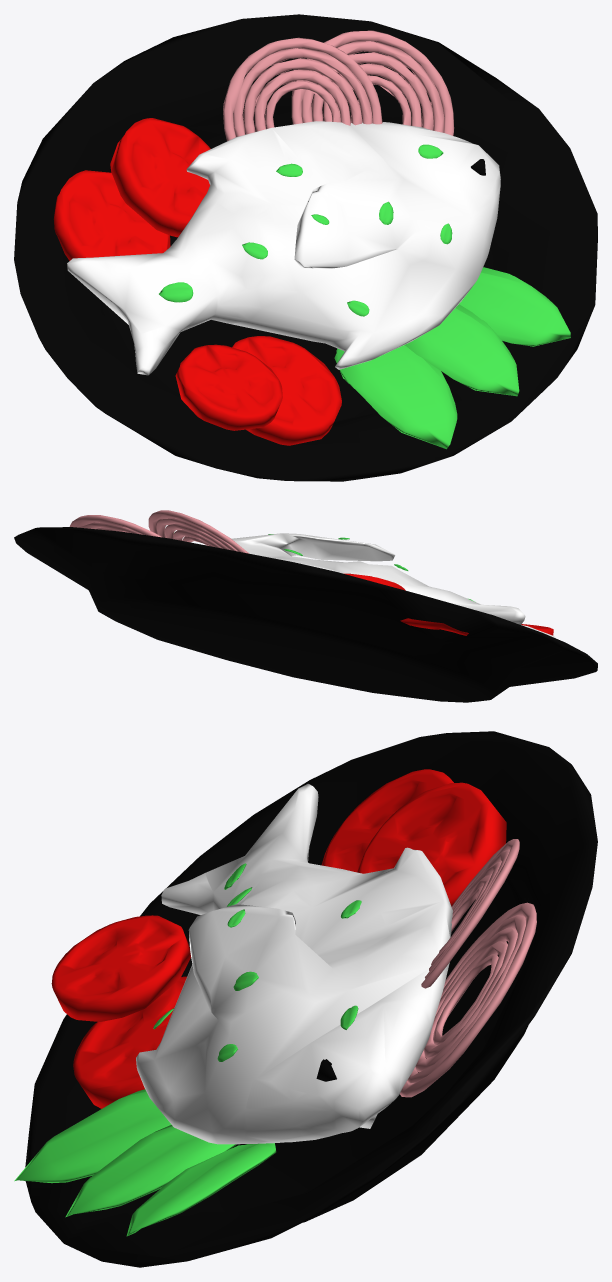
The model's file is fish.glb.
The picture shows the model from 3 angles, top to bottom: view 1: azimuth 30°, elevation 25°; view 2: azimuth 150°, elevation 25°; view 3: azimuth 270°, elevation 25°; orthographic projection. The views are drawn at different scales.
Visible parts, largest first — view 1: Circle, Cube.071, Torus.004, Cylinder.015, Torus.003, Cube.074, Cylinder.017, Cylinder.014, Cylinder.016, Cube.073, Cube.072; view 2: Circle, Cube.071, Torus.004, Torus.003, Cylinder.014, Cylinder.015; view 3: Cube.071, Circle, Cylinder.017, Cylinder.015, Torus.003, Cube.074, Cylinder.016, Cube.073, Cube.072, Cylinder.014, Torus.004.
Boxes of the visible parts, box(x1,y1,x2,y2) form: Circle: box(14, 14, 597, 481); Cube.071: box(67, 121, 500, 375); Torus.004: box(223, 37, 382, 140); Cylinder.015: box(110, 118, 210, 237); Torus.003: box(291, 30, 454, 135); Cube.074: box(334, 345, 457, 449); Cylinder.017: box(175, 344, 282, 430); Cylinder.014: box(53, 170, 170, 260); Cylinder.016: box(232, 336, 341, 445); Cube.073: box(405, 304, 519, 396); Cube.072: box(459, 267, 570, 346); Circle: box(14, 527, 597, 702); Cube.071: box(205, 533, 555, 637); Torus.004: box(148, 510, 248, 553); Torus.003: box(69, 515, 161, 537); Cylinder.014: box(400, 618, 468, 635); Cylinder.015: box(344, 573, 405, 590); Cube.071: box(136, 783, 452, 1144); Circle: box(25, 731, 597, 1267); Cylinder.017: box(51, 915, 190, 1021); Cylinder.015: box(357, 782, 506, 906); Torus.003: box(400, 902, 536, 1097); Cube.074: box(14, 1089, 171, 1183); Cylinder.016: box(73, 976, 186, 1108); Cube.073: box(65, 1125, 236, 1217); Cube.072: box(126, 1143, 276, 1236); Cylinder.014: box(321, 769, 453, 872); Torus.004: box(421, 839, 519, 988).
Bounding box in the file's own units: 5.77 × 2.69 × 3.81.
